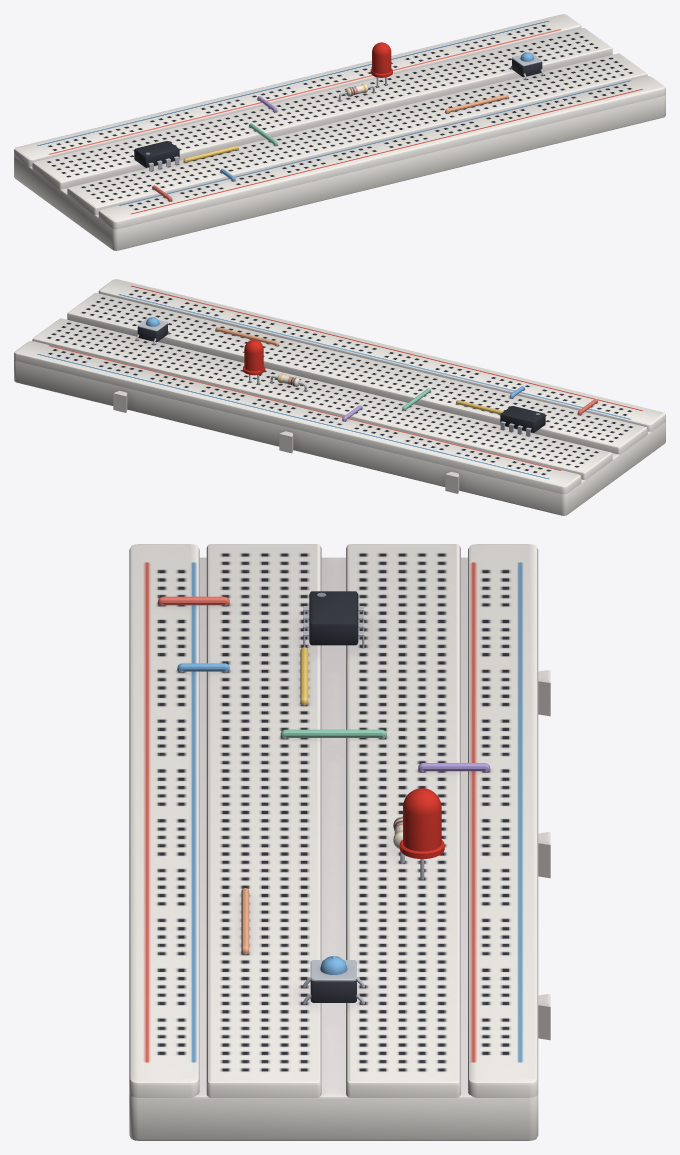
The model's file is breadboard.obj.
3 renders of one model, top to bottom at view 1: azimuth 30°, elevation 25°; view 2: azimuth 150°, elevation 25°; view 3: azimuth 270°, elevation 25°, orthographic. The views are drawn at different scales.
Visible parts, largest first — view 1: breadboard_body, breadboard_led_rgb; view 2: breadboard_body, breadboard_led_rgb; view 3: breadboard_body, breadboard_led_rgb.
Part boxes in pixels (x1,y1,x2,y2): breadboard_body: (14,14,665,250); breadboard_led_rgb: (370,42,392,77); breadboard_body: (14,279,665,515); breadboard_led_rgb: (243,339,265,375); breadboard_body: (129,544,550,1140); breadboard_led_rgb: (399,788,444,858).
Bounding box in the file's own units: 0.1651 × 0.0206 × 0.0545.
Materials: 2 (1 with a texture image).
